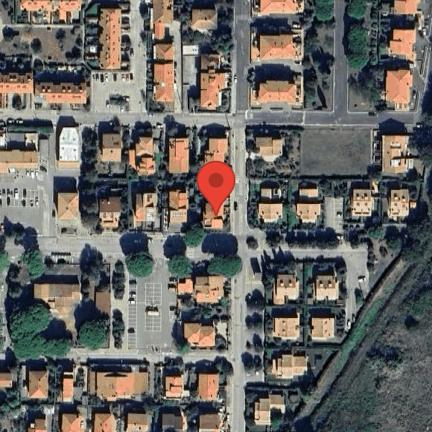area_open: (300, 127, 372, 177), (128, 280, 177, 348), (0, 176, 52, 238), (93, 70, 146, 114), (412, 1, 431, 116), (340, 255, 367, 327), (371, 247, 393, 290), (249, 63, 296, 83), (56, 221, 88, 249), (326, 197, 345, 232), (181, 57, 197, 91), (58, 173, 82, 194), (92, 362, 145, 369), (5, 133, 25, 150)
built: (247, 75, 304, 111), (193, 53, 227, 112), (0, 129, 40, 174), (91, 372, 147, 402), (251, 31, 300, 62), (31, 284, 81, 313), (176, 278, 227, 305), (101, 5, 122, 70), (184, 320, 227, 349), (382, 134, 412, 173), (53, 127, 79, 168), (204, 138, 230, 178), (130, 134, 155, 175), (39, 83, 87, 104), (388, 69, 416, 104), (272, 356, 308, 383), (254, 394, 285, 425), (251, 0, 301, 19), (151, 0, 174, 41), (272, 314, 301, 344), (166, 138, 190, 174), (166, 189, 189, 224), (155, 64, 176, 101), (312, 275, 340, 302), (100, 130, 124, 161), (0, 73, 35, 94), (196, 374, 222, 402), (390, 191, 414, 221), (350, 188, 374, 218), (272, 277, 299, 303), (389, 29, 416, 55), (160, 375, 189, 399), (135, 190, 157, 221), (253, 138, 284, 160), (191, 10, 220, 31), (28, 371, 49, 399), (101, 197, 120, 227), (311, 318, 335, 341), (205, 202, 225, 229), (93, 291, 112, 317), (297, 205, 322, 224), (56, 194, 75, 218), (199, 414, 222, 432), (96, 415, 120, 432), (17, 0, 53, 11), (260, 204, 282, 222), (61, 1, 80, 21), (394, 0, 421, 14), (151, 45, 174, 61), (167, 412, 186, 431), (62, 415, 82, 432), (127, 416, 149, 431), (63, 375, 76, 399), (31, 10, 52, 21), (299, 187, 319, 197), (260, 189, 278, 200), (0, 372, 12, 386), (184, 44, 197, 56), (30, 421, 47, 430), (81, 394, 89, 404), (91, 46, 97, 55)
vegetation_low: (247, 218, 432, 432), (240, 246, 343, 432), (0, 251, 112, 357), (0, 0, 103, 80), (245, 122, 300, 231), (79, 128, 125, 235), (351, 215, 427, 271), (349, 0, 386, 112), (302, 1, 334, 112), (124, 250, 241, 280), (0, 24, 84, 64), (177, 0, 237, 53), (383, 118, 430, 177), (303, 173, 427, 195), (249, 226, 341, 251), (0, 370, 25, 431), (158, 356, 231, 376), (38, 360, 72, 396), (312, 303, 345, 339), (77, 364, 87, 388), (28, 400, 43, 415)
